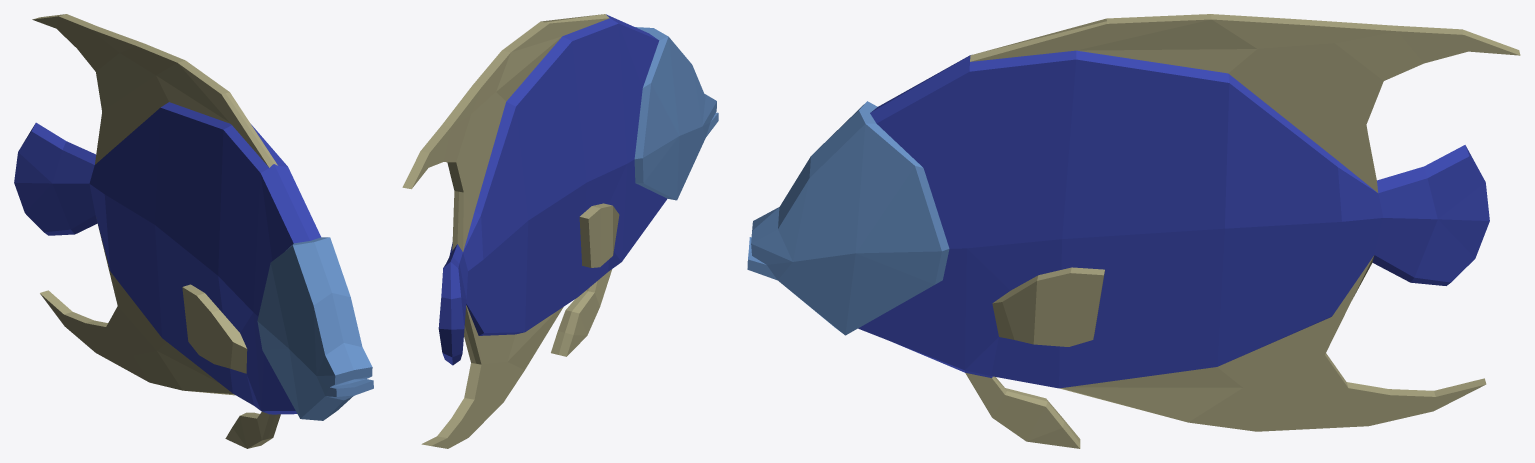
File: fish_2.glb
3 renders of one model, left to right at view 1: azimuth 30°, elevation 25°; view 2: azimuth 150°, elevation 25°; view 3: azimuth 270°, elevation 25°, orthographic. The views are drawn at different scales.
Parts seen in each view (by area): view 1: fish_2; view 2: fish_2; view 3: fish_2.
Part boxes in pixels (x1=…): fish_2: x1=14, y1=14, x2=373, y2=448; fish_2: x1=402, y1=14, x2=718, y2=448; fish_2: x1=747, y1=14, x2=1520, y2=448.
Size of the model in its own units: 0.0866 by 0.2745 by 0.45.
